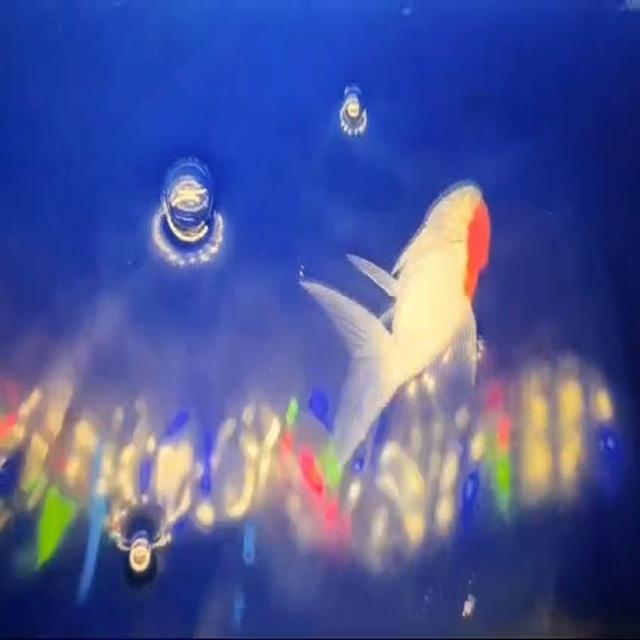fish: (306, 171, 492, 489)
